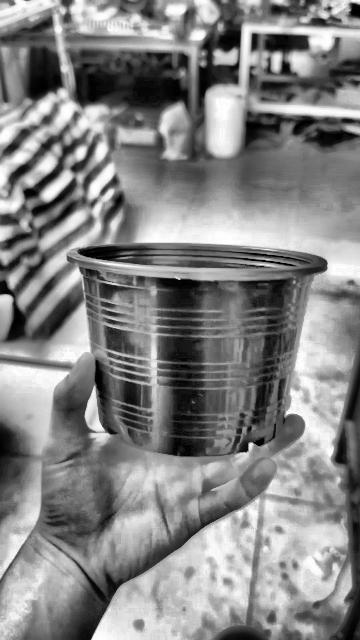pot: (68, 243, 326, 457)
